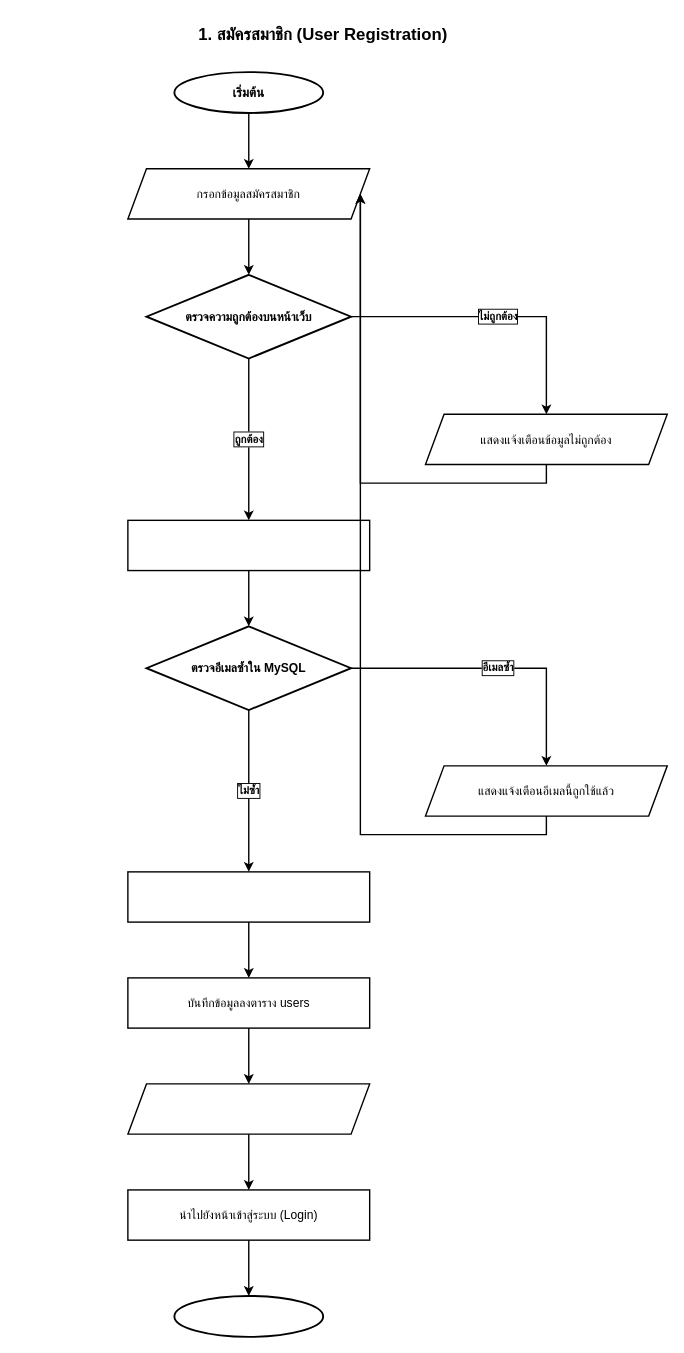
Image size: 684x1353. Some labels were removed from this diagram. The shapes that lost their labels are listed below. From the top down, each one's box as (x1, y1, x2, y2) in pixels, then its label:
(127, 519, 370, 571): ส่ง API POST /api/auth/register
(127, 871, 370, 922): เข้ารหัสผ่านด้วย bcrypt
(127, 1083, 370, 1134): แสดงข้อความ สมัครสมาชิกสำเร็จ
(173, 1295, 324, 1337): จบการทำงาน
